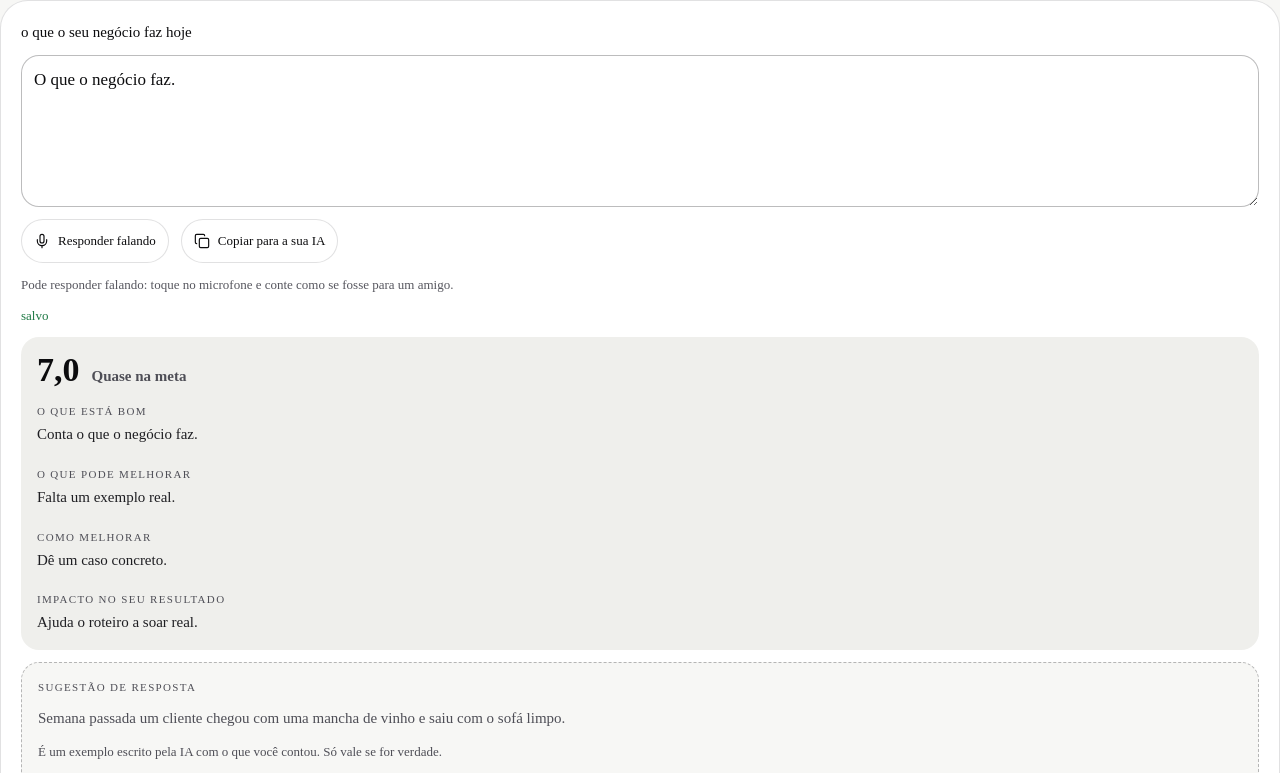
Test: PerguntaCampo, sugestão de resposta (E37a, item 2) › no briefing vivo, o campo já está editável (sem botão 'editar'), e mudar o texto troca a análise pela nota antiga
The image size is (1280, 773).
Check: the text "Sugestão de resposta" is shown, box [38, 681, 196, 693]
Replace the text in the text box named "o que o seu negócio faz hoje" with "O que o negócio faz, agora editado." at (640, 131), box [21, 55, 1259, 207]
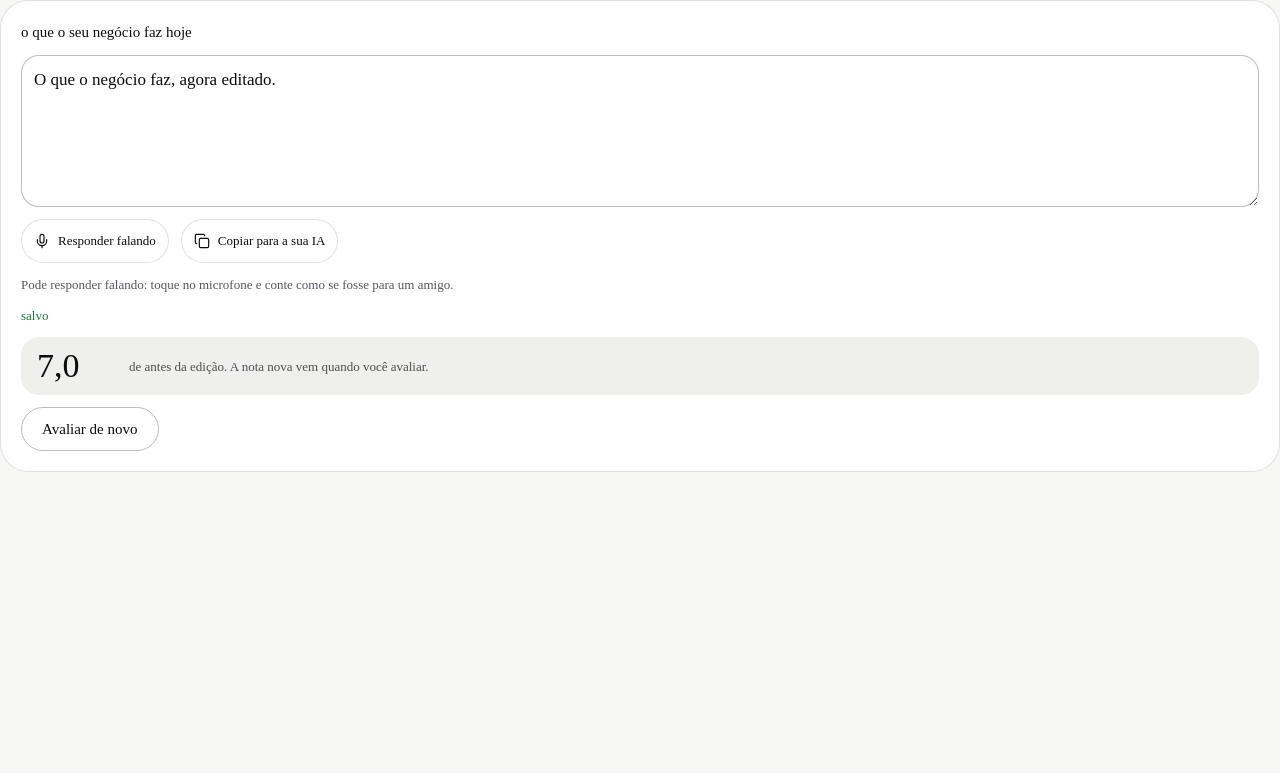
Check: the button "Avaliar de novo" is shown, box [21, 407, 158, 451]
Check: the text "de antes da edição. A nota nova vem quando você avaliar." is shown, box [129, 357, 429, 376]
Check: the text "Sugestão de resposta" is gone
